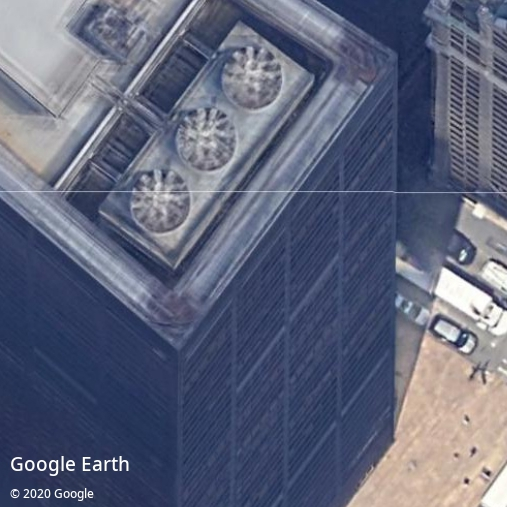Vent: (221, 46, 284, 111), (176, 107, 238, 172), (131, 169, 191, 234)
